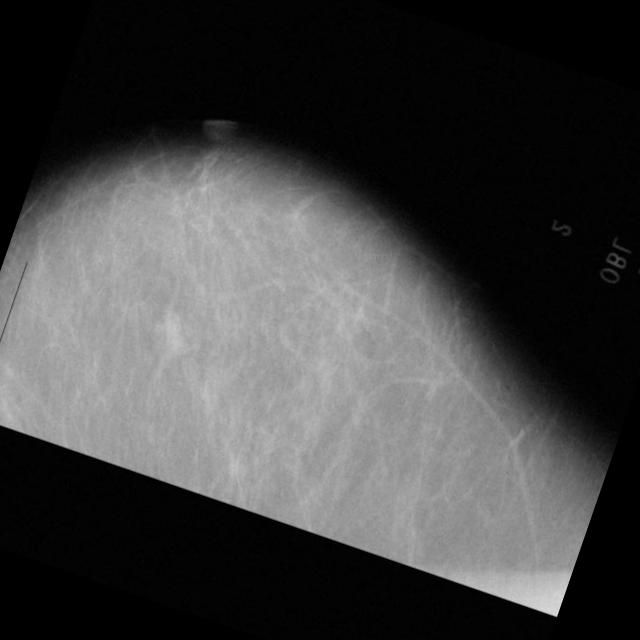ASYM: (145, 308, 200, 363)
